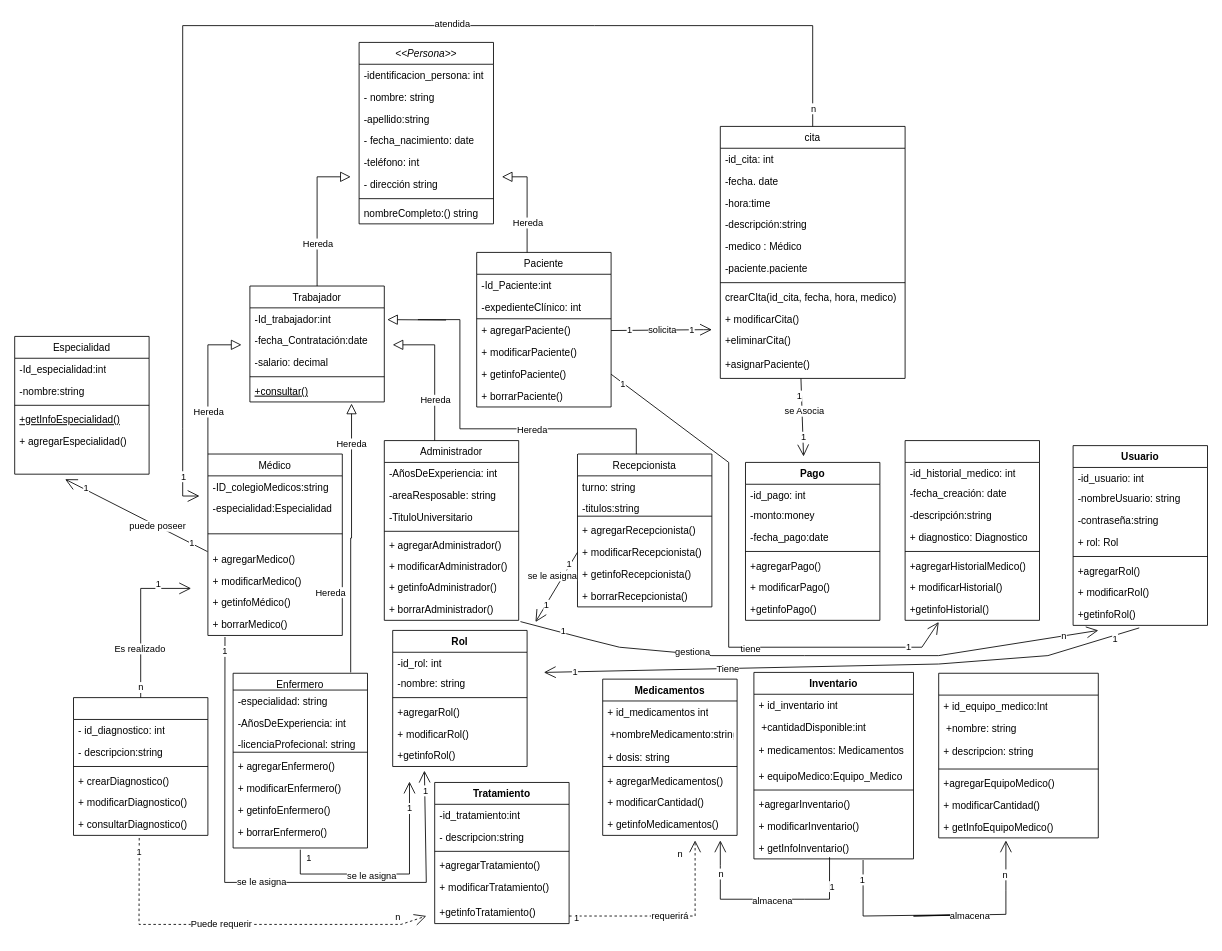
This 1222x951 diagram has some shape labels left out. Each missing label, with the box of its shape:
Diagnóstico: (73, 697, 208, 835)
Equipo Médico: (938, 672, 1098, 838)
Historial Médico: (904, 440, 1040, 620)
